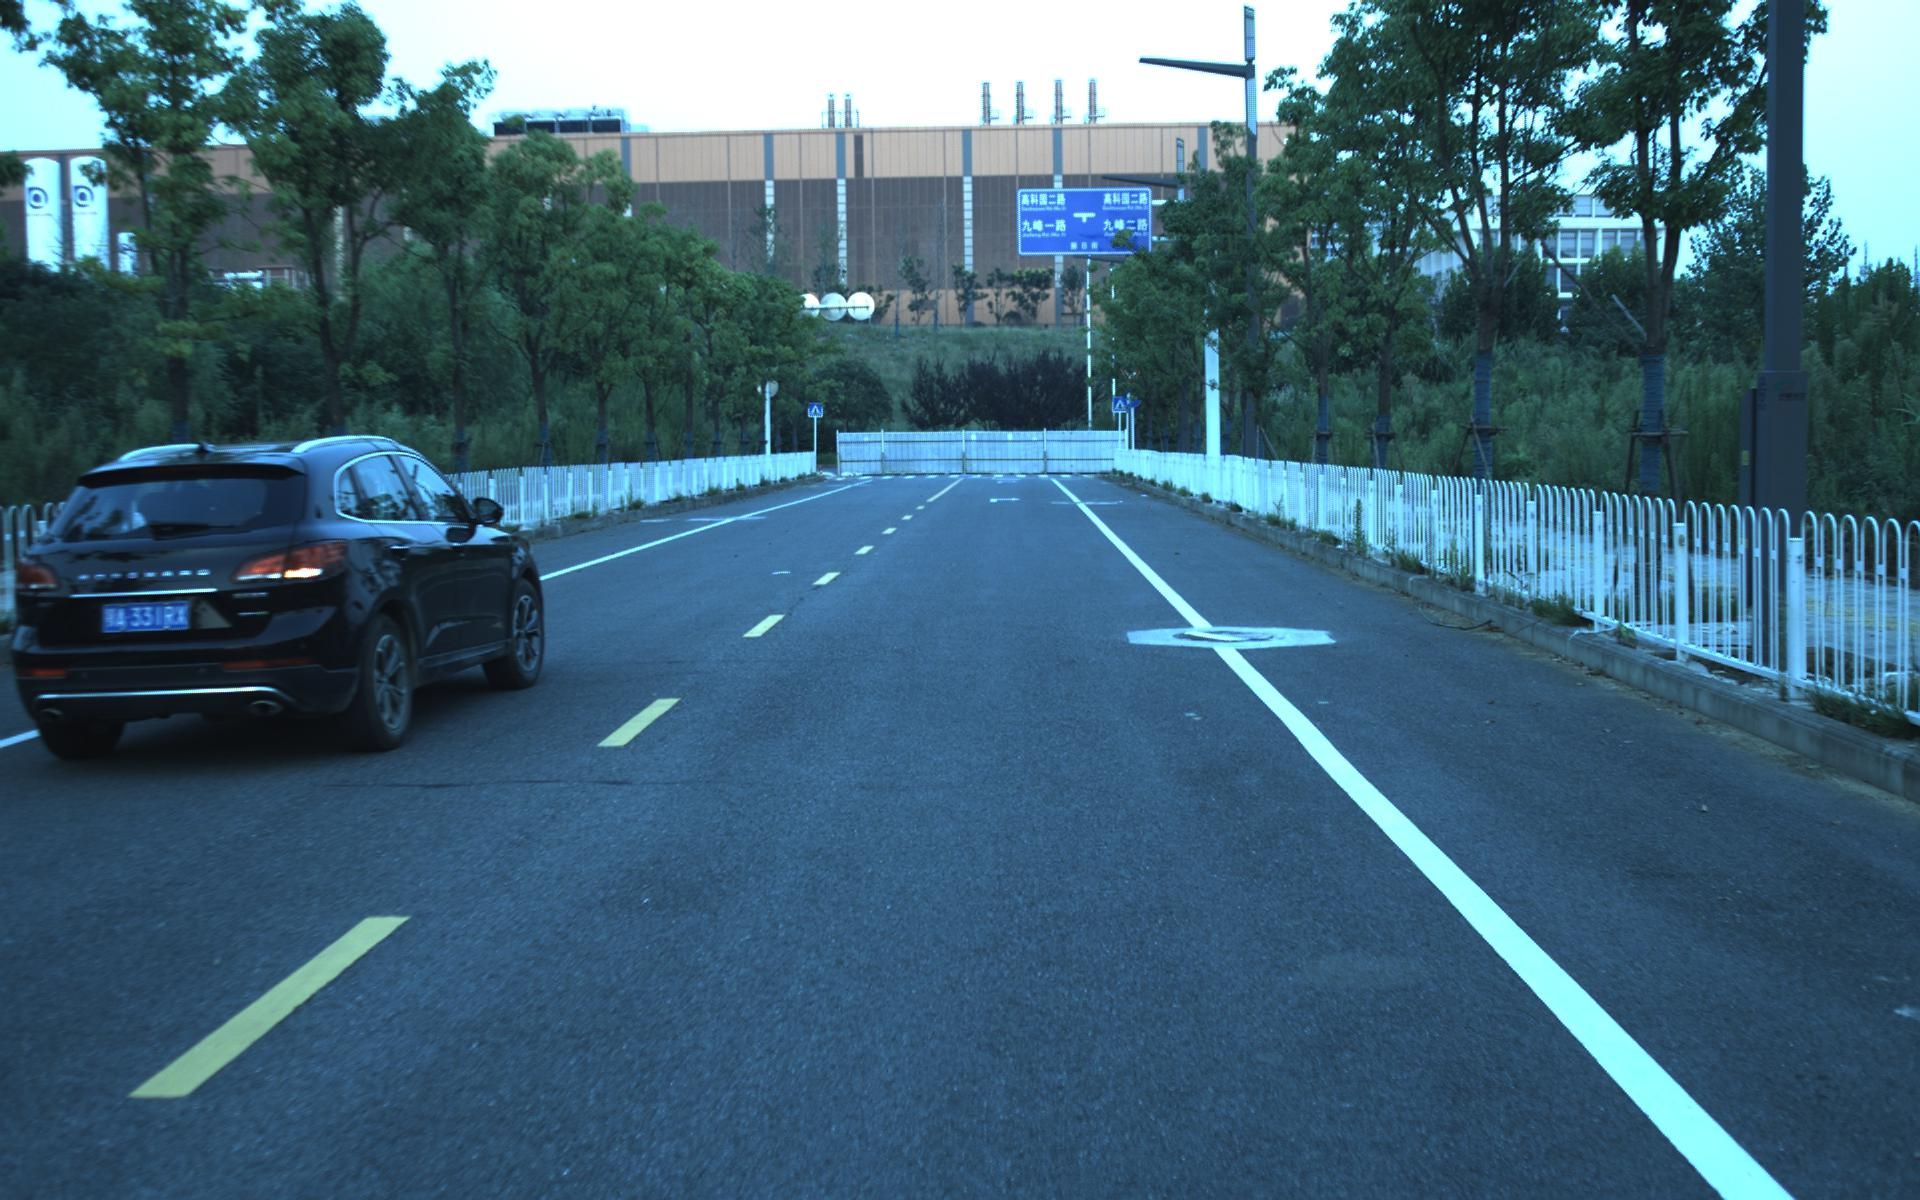Car: (0, 418, 554, 766)
